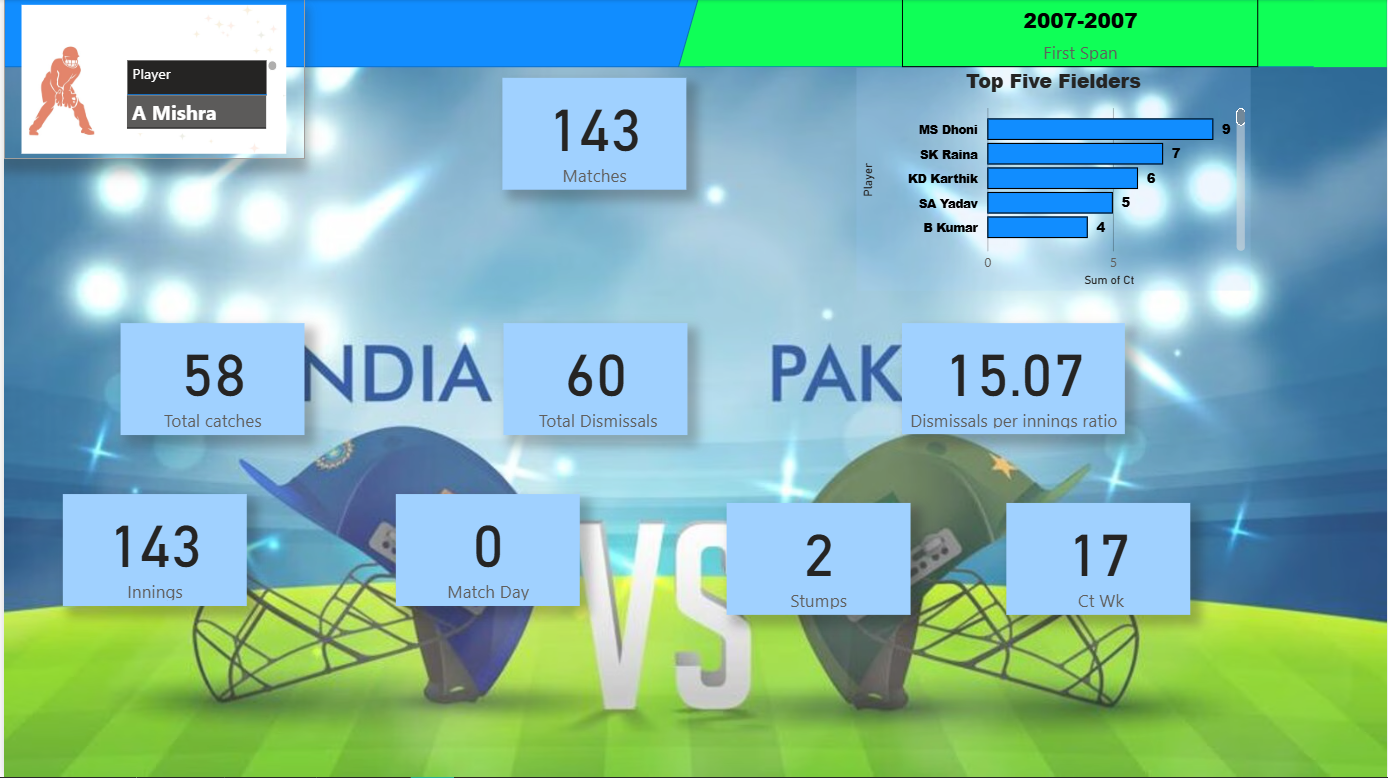

Layout of this report page (visuals, bound fields, positions):
{"tool":"powerbi","page":{"name":"Fielding","canvas":[1280,720],"ordinal":2},"visuals":[{"type":"shape","box":[0,0,648.9,63.3],"z":0},{"type":"shape","box":[623.3,0,608.9,63.3],"z":1000},{"type":"shape","box":[1212.2,0,67.8,63.3],"z":2000},{"type":"image","box":[0,0,278,148],"z":3000},{"type":"clusteredBarChart","title":"Top Five Fielders","fields":{"Category":["Fielding.Player"],"Y":["Fielding.Ct"]},"box":[788.9,63.3,364.4,206.7],"z":4000},{"type":"tableEx","fields":{"Values":["Fielding.Player"]},"box":[107.8,51.1,150,73.3],"z":5000},{"type":"card","fields":{"Values":["Fielding.Span"]},"box":[831.1,0,330,63.3],"z":6000},{"type":"card","fields":{"Values":["Fielding.Ct"]},"box":[107.8,300,170,103.3],"z":7000},{"type":"card","fields":{"Values":["Fielding.Inns"]},"box":[54.4,457.8,170,103.3],"z":8000},{"type":"card","fields":{"Values":["Fielding.MD"]},"box":[362.2,457.8,170,103.3],"z":9000},{"type":"card","fields":{"Values":["Fielding.Ct Wk"]},"box":[927.8,466.7,170,103.3],"z":10000},{"type":"card","fields":{"Values":["Fielding.Dis"]},"box":[462.2,300,170,103.3],"z":11000},{"type":"card","fields":{"Values":["Fielding.D/I"]},"box":[831.2,300.3,206.3,102.5],"z":12000},{"type":"card","fields":{"Values":["Fielding.St"]},"box":[668.9,466.7,170,103.3],"z":13000},{"type":"card","fields":{"Values":["Fielding.Mat"]},"box":[461.1,73.3,170,103.3],"z":14000}]}

Visuals, with their boxes on the page's 1280x720 design canvas (x1, y1, x2, y2). These are canvas units, not pixel positions in the 1388x778 screenshot, which may show the page scaled, cropped or inside an application window:
shape: left=0, top=0, right=649, bottom=63
shape: left=623, top=0, right=1232, bottom=63
shape: left=1212, top=0, right=1280, bottom=63
image: left=0, top=0, right=278, bottom=148
"Top Five Fielders" clusteredBarChart: left=789, top=63, right=1153, bottom=270
tableEx - Fielding.Player: left=108, top=51, right=258, bottom=124
card - Fielding.Span: left=831, top=0, right=1161, bottom=63
card - Fielding.Ct: left=108, top=300, right=278, bottom=403
card - Fielding.Inns: left=54, top=458, right=224, bottom=561
card - Fielding.MD: left=362, top=458, right=532, bottom=561
card - Fielding.Ct Wk: left=928, top=467, right=1098, bottom=570
card - Fielding.Dis: left=462, top=300, right=632, bottom=403
card - Fielding.D/I: left=831, top=300, right=1038, bottom=403
card - Fielding.St: left=669, top=467, right=839, bottom=570
card - Fielding.Mat: left=461, top=73, right=631, bottom=177
